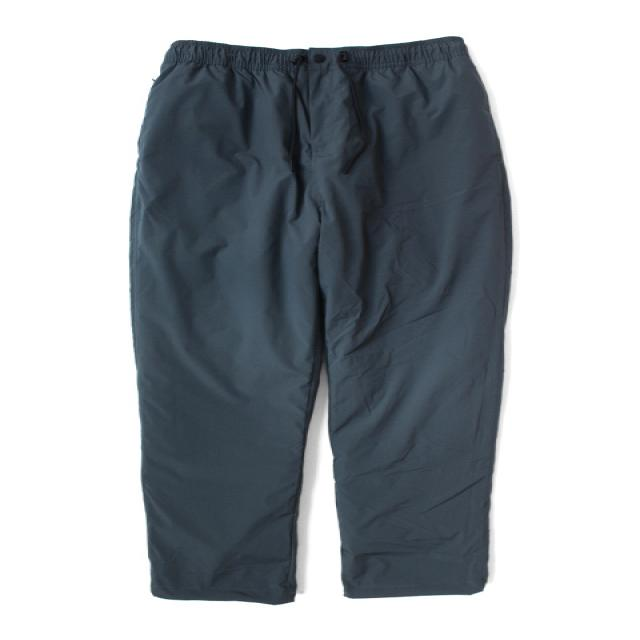long-pants: (126, 33, 516, 605)
